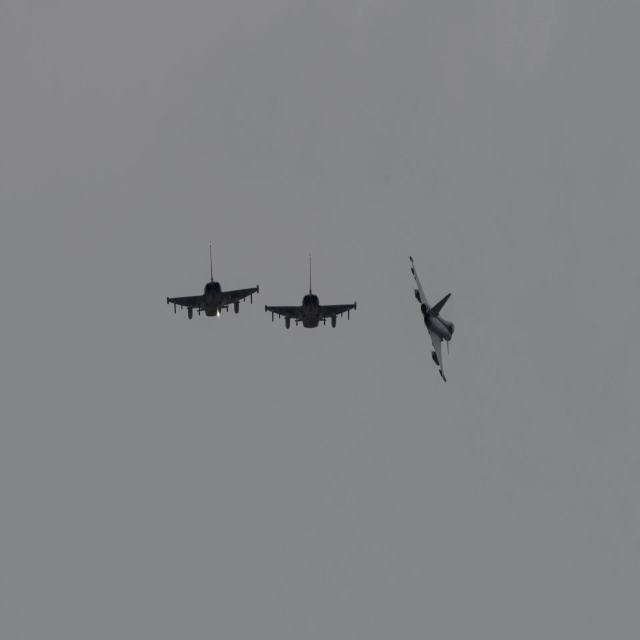MIL_Plane: (166, 239, 260, 320), (264, 251, 357, 330), (409, 256, 455, 382)
